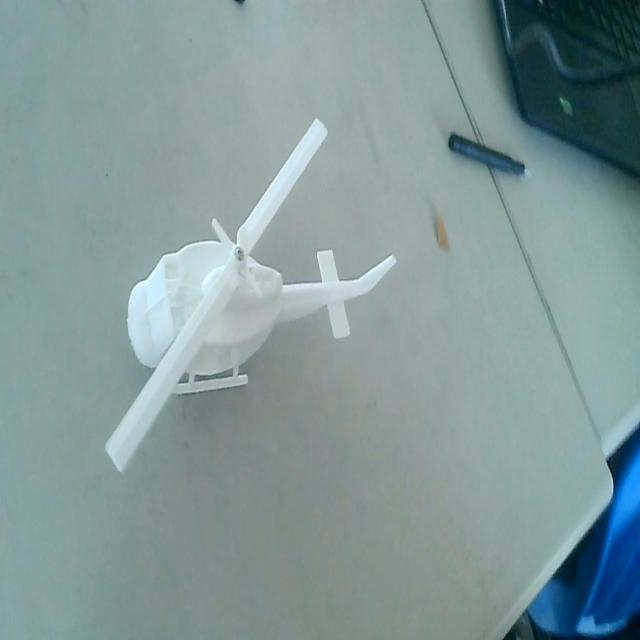Helicopter: (100, 110, 399, 470)
